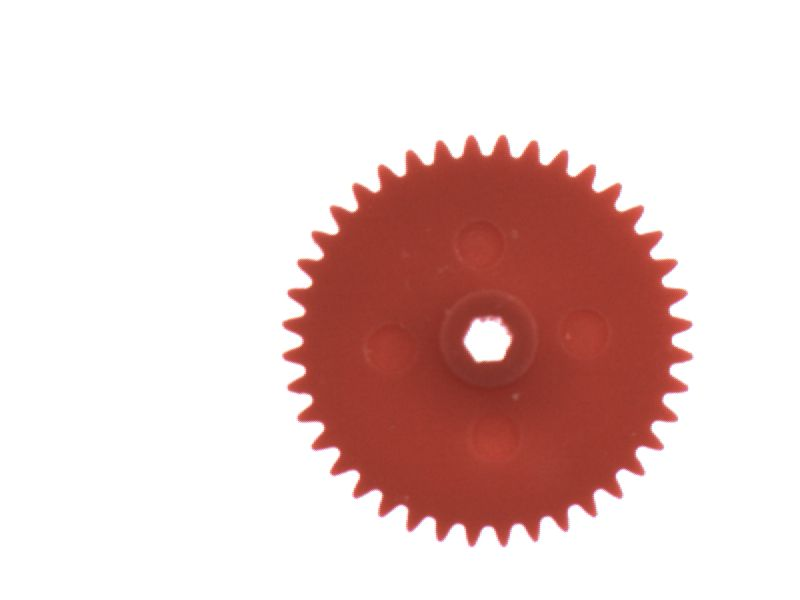good_product: (269, 125, 705, 556)
